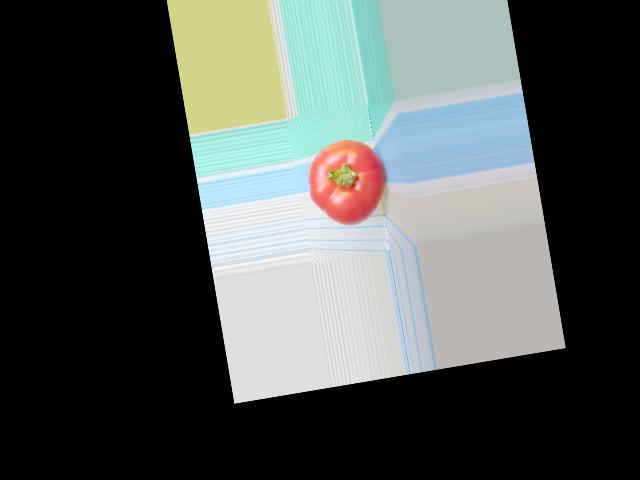tomato: (302, 133, 392, 230)
